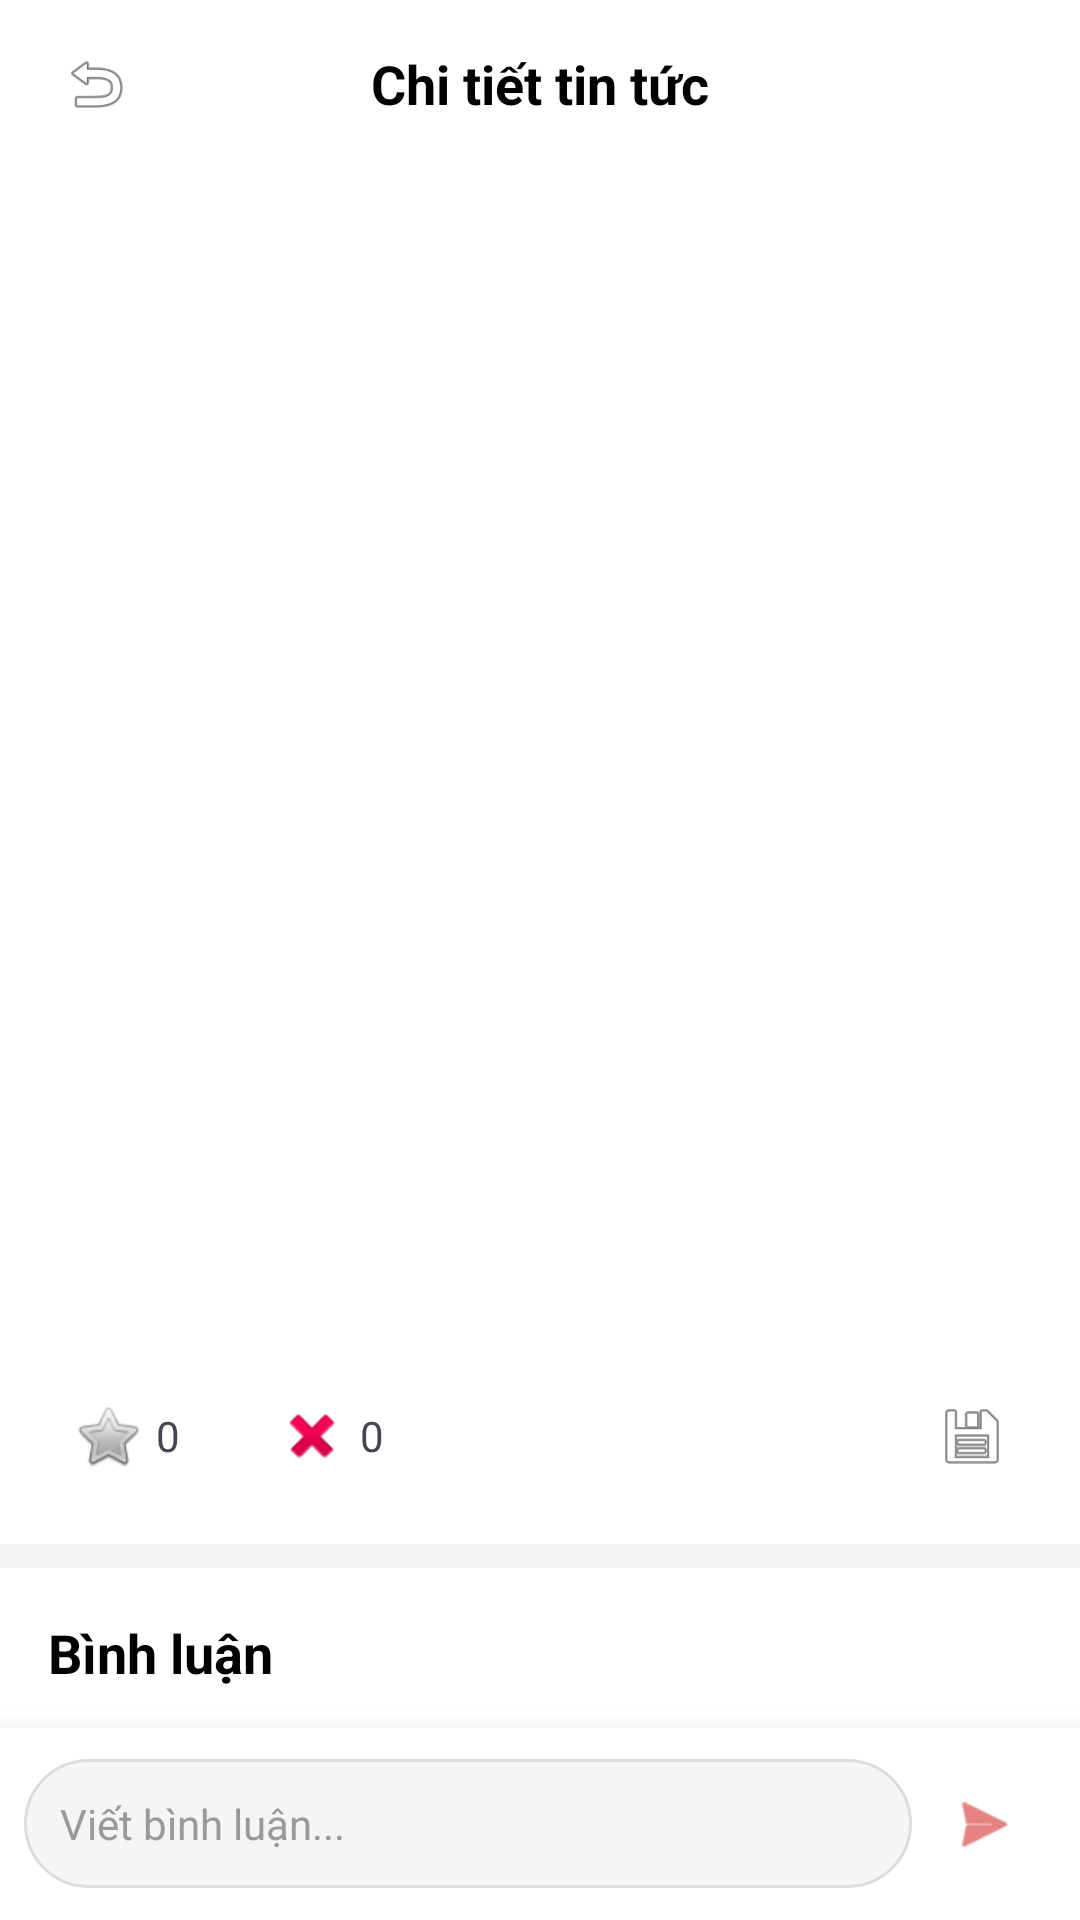

Icon bounding boxes for this 1080x1920 phone screenshot, format {"left": x1, "top": y1, "right": x2, "bottom": y2}:
delete: {"left": 289, "top": 1414, "right": 335, "bottom": 1458}
Quay lại: {"left": 71, "top": 61, "right": 123, "bottom": 108}
save: {"left": 945, "top": 1409, "right": 999, "bottom": 1464}
send: {"left": 962, "top": 1802, "right": 1008, "bottom": 1847}
star off: {"left": 79, "top": 1407, "right": 139, "bottom": 1466}
